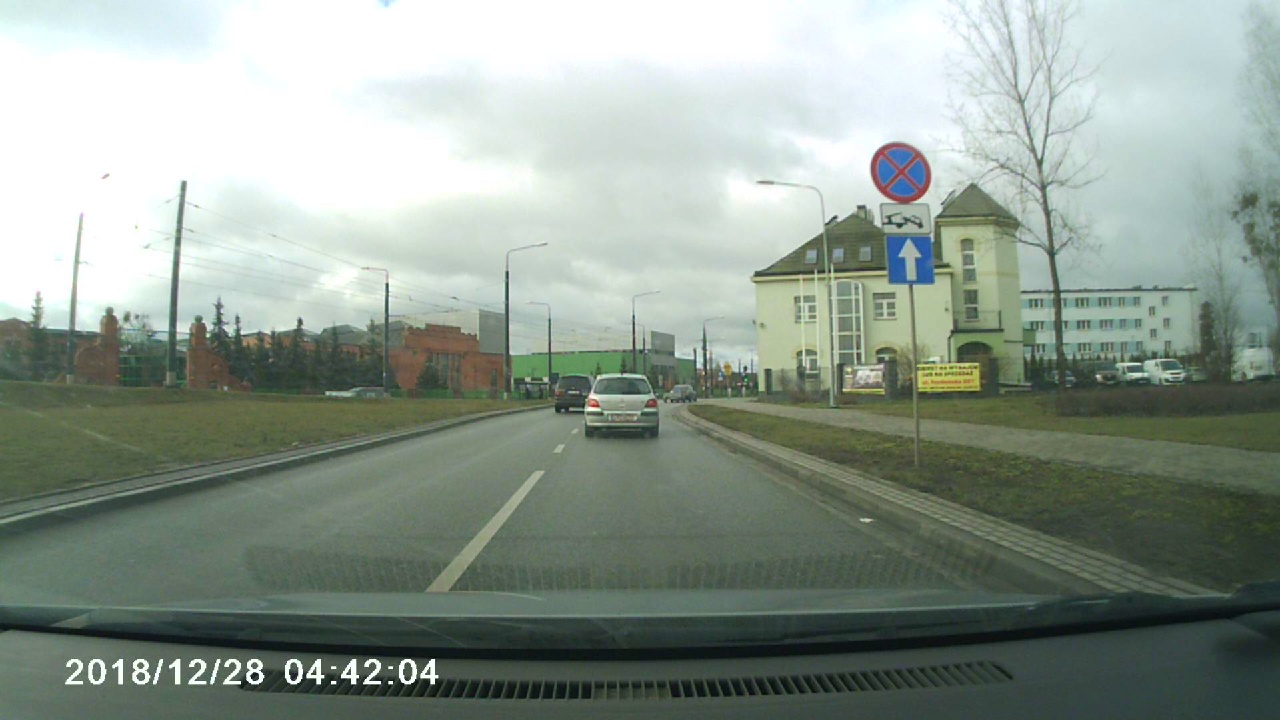B35: (868, 139, 933, 198)
D3: (883, 235, 940, 283)
